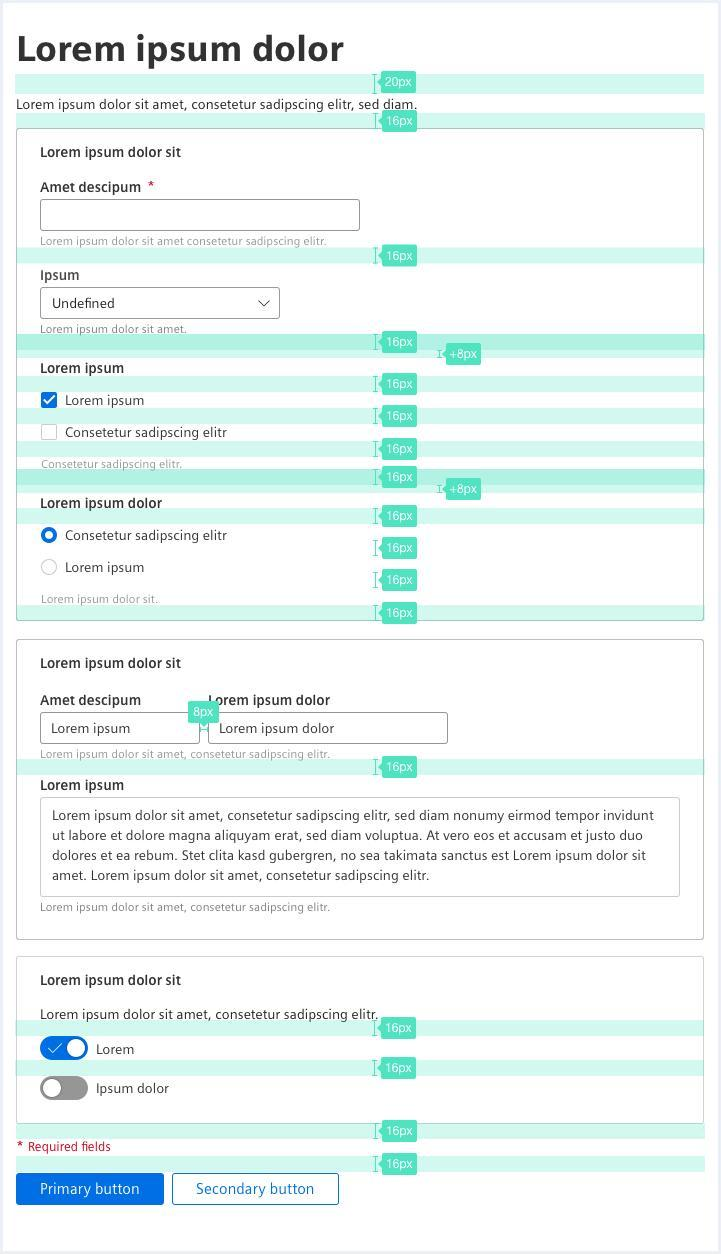button: (172, 1174, 342, 1206), (17, 1173, 166, 1207)
checkbox: (41, 425, 59, 442), (41, 392, 58, 409)
dropdown: (42, 289, 281, 319)
input: (42, 200, 361, 231), (211, 713, 447, 745), (40, 713, 200, 745)
label: (14, 35, 350, 68), (37, 1006, 379, 1020), (67, 528, 227, 546), (40, 655, 187, 674), (35, 145, 190, 163), (40, 971, 186, 988), (66, 425, 228, 440), (36, 494, 167, 510), (42, 179, 157, 197), (208, 695, 334, 710), (39, 693, 146, 710), (63, 560, 150, 579), (40, 359, 127, 376), (66, 392, 146, 409), (95, 1080, 170, 1097), (40, 779, 126, 793), (39, 268, 83, 286), (97, 1042, 137, 1057)
radio: (40, 526, 59, 545), (41, 559, 60, 577)
switch: (39, 1077, 92, 1102), (39, 1037, 89, 1061)
